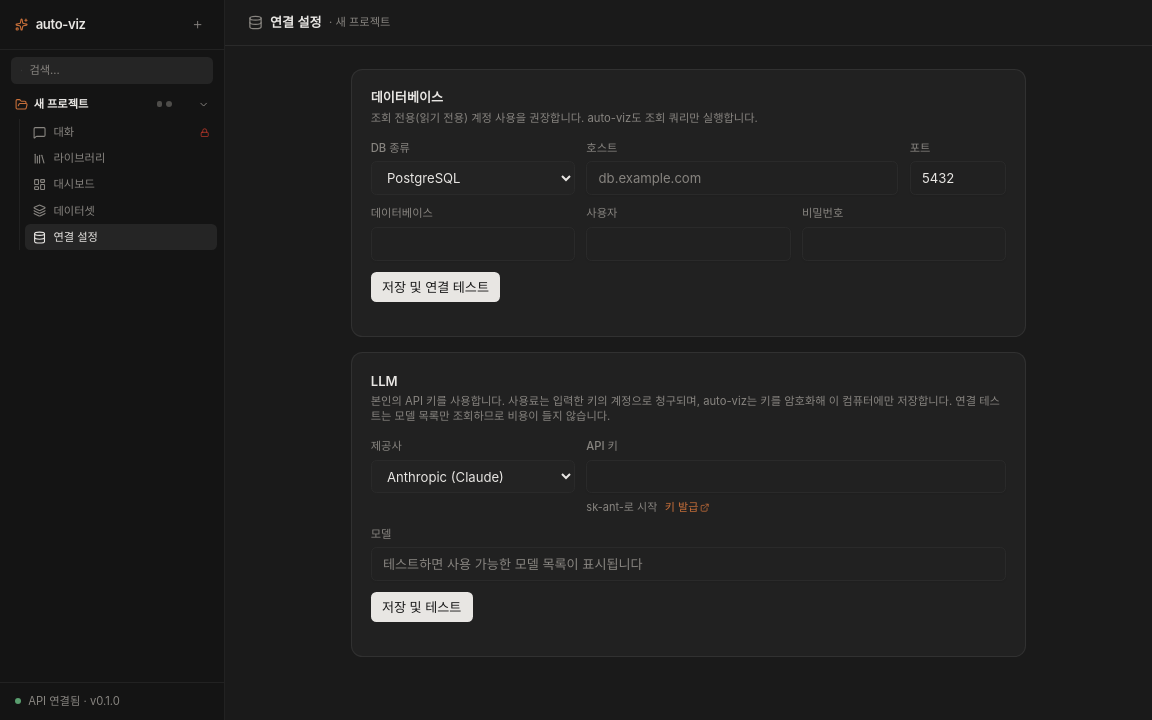
Test: 데이터베이스 연결 › DB 종류를 바꾸면 기본 포트를 따라가되, 직접 입력한 포트는 유지한다
Later steps or results of the test are not shown.
Select "MySQL" in the dropdown labelled "DB 종류" at (473, 178), box [371, 161, 575, 195]
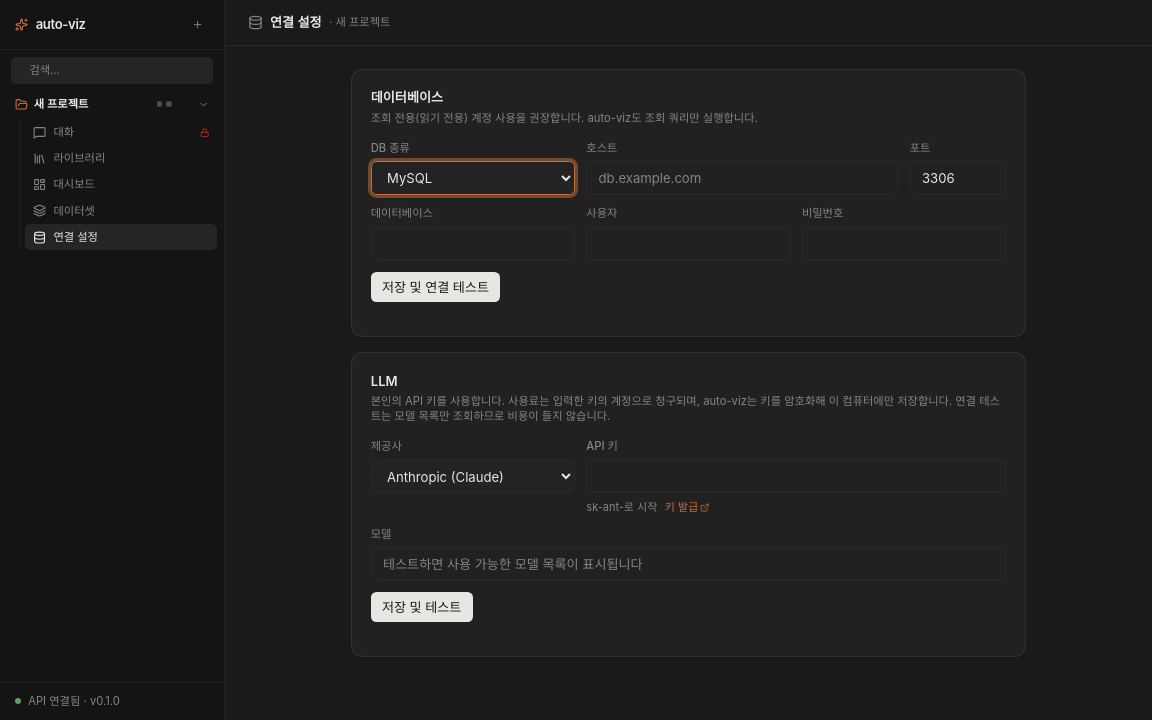
Expected: the number field labelled "포트" holds "3306", [910, 161, 1006, 195]
